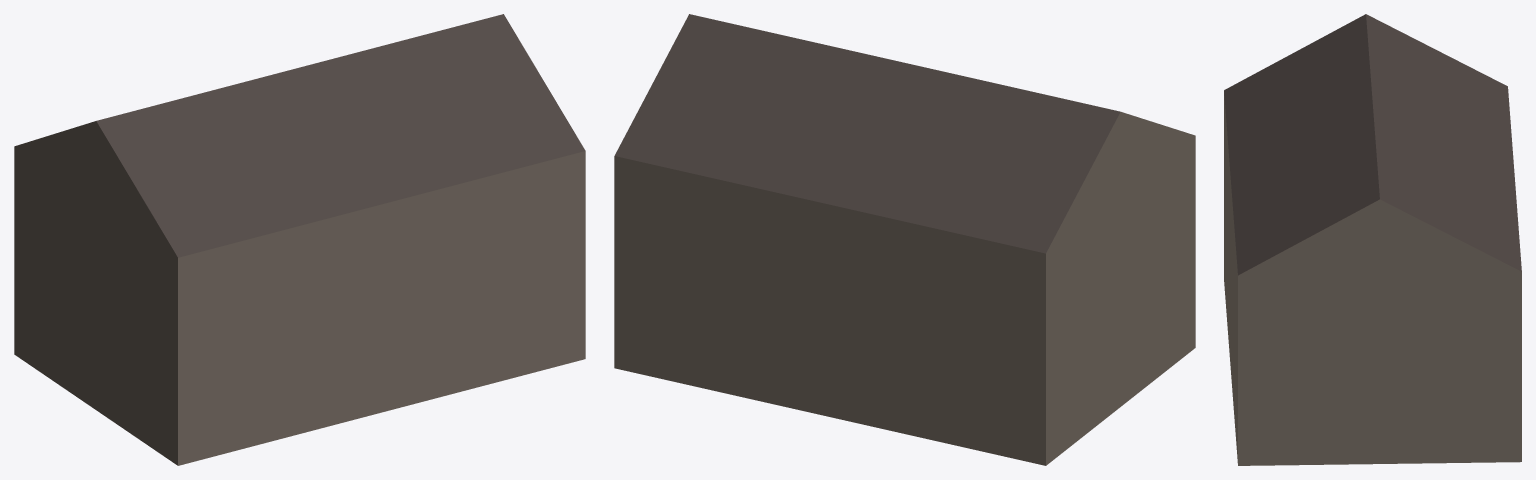
3 views of the same model, side by side, from view 1: azimuth 30°, elevation 25°; view 2: azimuth 150°, elevation 25°; view 3: azimuth 270°, elevation 25° (orthographic). The views are drawn at different scales.
Parts seen in each view (by area): view 1: HP-w369317461; view 2: HP-w369317461; view 3: HP-w369317461.
Part boxes in pixels (x1,y1,x2,y2): HP-w369317461: (14, 14, 585, 465); HP-w369317461: (614, 14, 1195, 465); HP-w369317461: (1224, 14, 1521, 465).
Bounding box in the file's own units: 19.18 × 12.51 × 12.76.
